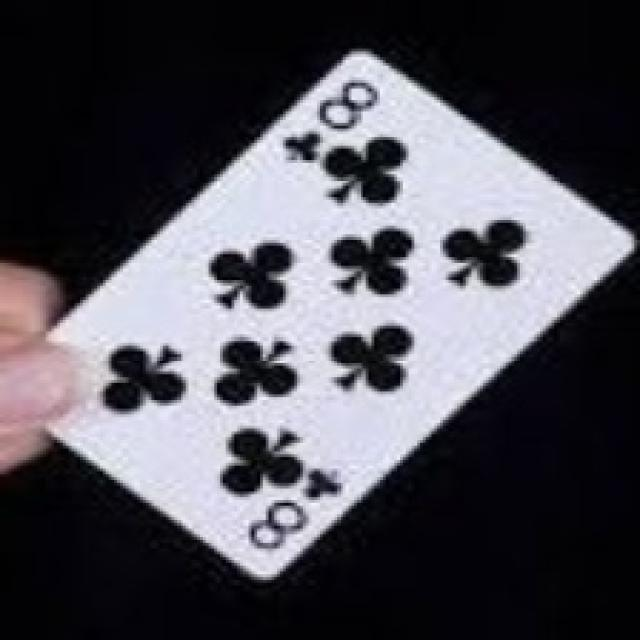Club: (100, 345, 186, 414), (209, 240, 292, 310), (330, 226, 414, 295), (443, 218, 526, 287), (324, 136, 408, 204), (331, 324, 414, 392), (214, 337, 298, 404), (219, 426, 303, 493)
